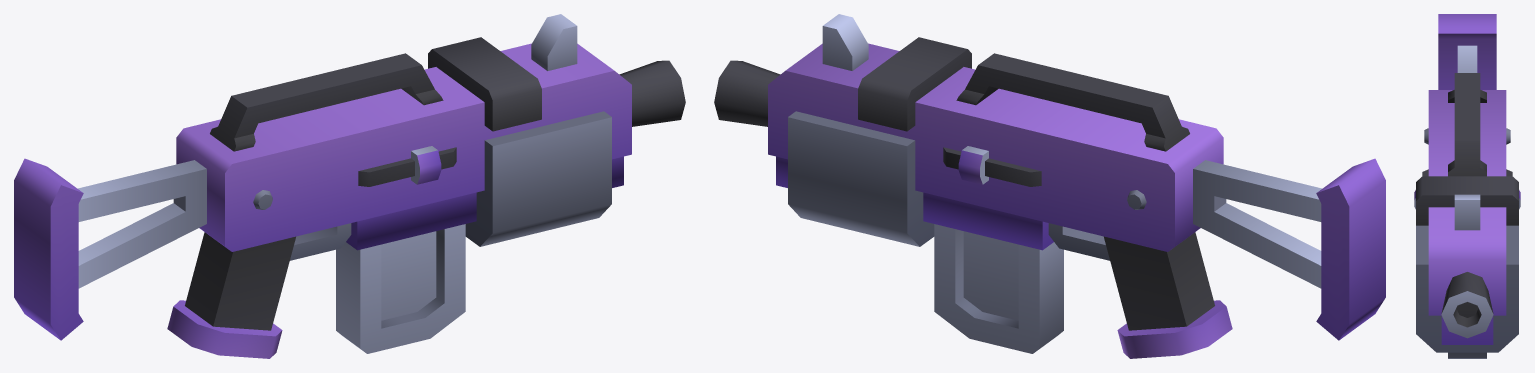
The model's file is Blaster_Laser.obj.
3 views of the same model, side by side, from view 1: azimuth 30°, elevation 25°; view 2: azimuth 150°, elevation 25°; view 3: azimuth 270°, elevation 25° (orthographic). The views are drawn at different scales.
Parts seen in each view (by area): view 1: blaster-d, magazine; view 2: blaster-d, magazine; view 3: blaster-d, magazine.
Part boxes in pixels (x1,y1,x2,y2): blaster-d: [14, 14, 685, 358]; magazine: [336, 224, 465, 353]; blaster-d: [714, 14, 1385, 358]; magazine: [934, 224, 1063, 353]; blaster-d: [1414, 14, 1520, 352]; magazine: [1448, 352, 1486, 358].
Size of the model in its own units: 0.9079 by 0.3719 by 0.165.
Materials: 1 (1 with a texture image).
